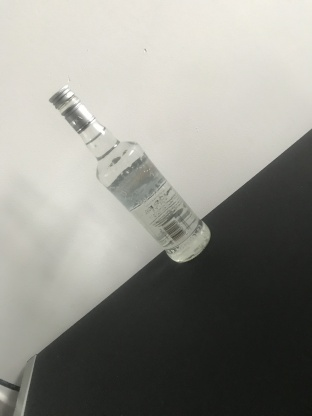nakretka: (46, 82, 97, 135)
